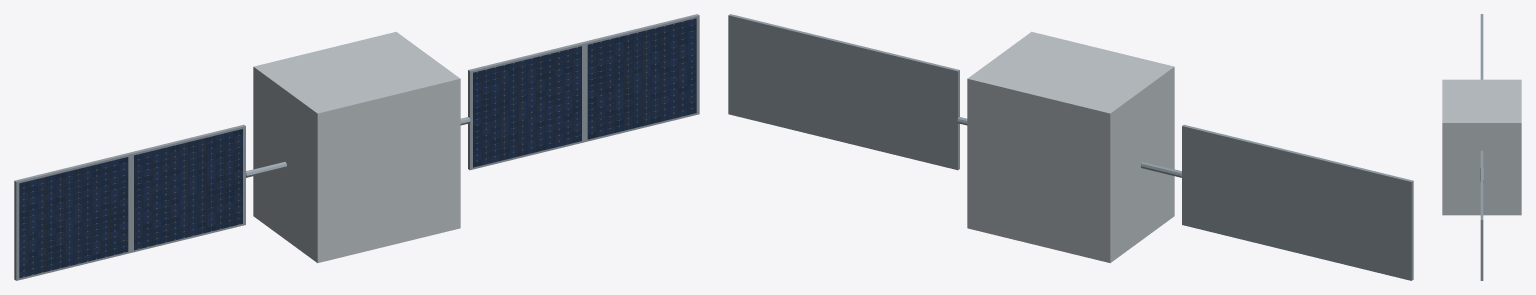
File: ref-sa-200b-26414.glb
The picture shows the model from 3 angles, left to right: view 1: azimuth 30°, elevation 25°; view 2: azimuth 150°, elevation 25°; view 3: azimuth 270°, elevation 25°; orthographic projection. The views are drawn at different scales.
Visible parts, largest first — view 1: Photovoltaic laminates (×4), Spacecraft body, Array frame (×4); view 2: Array frame (×4), Spacecraft body; view 3: Spacecraft body, Array frame (×4).
Boxes of the visible parts, bbox=[...] form: Photovoltaic laminates (×4): bbox=[19, 18, 696, 278]; Spacecraft body: bbox=[253, 31, 460, 263]; Array frame (×4): bbox=[14, 14, 699, 280]; Array frame (×4): bbox=[728, 14, 1413, 280]; Spacecraft body: bbox=[967, 31, 1174, 263]; Spacecraft body: bbox=[1442, 79, 1521, 215]; Array frame (×4): bbox=[1480, 14, 1483, 280].
Bounding box in the file's own units: 4.3 × 0.9 × 0.7.
Materials: 3 (1 with a texture image).
